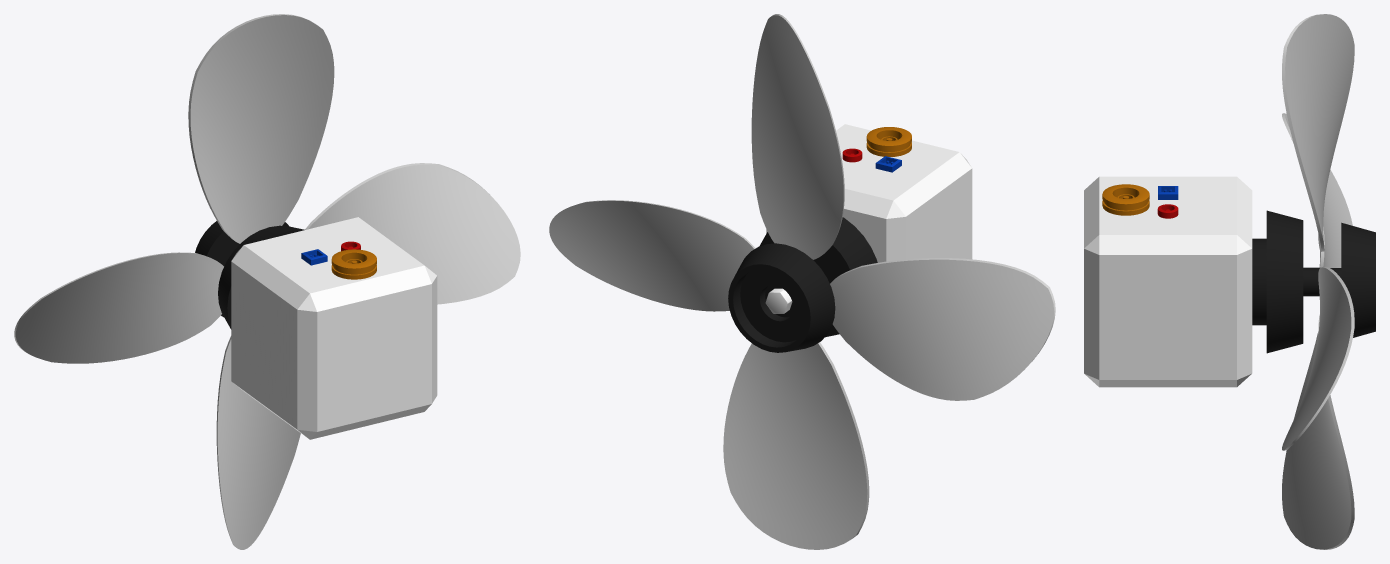
Rendered from Propeller.gltf.
3 views of the same model, side by side, from view 1: azimuth 30°, elevation 25°; view 2: azimuth 150°, elevation 25°; view 3: azimuth 270°, elevation 25° (orthographic). The views are drawn at different scales.
Parts seen in each view (by area): view 1: prop, Base; view 2: prop, Base; view 3: Base, prop.
Boxes of the visible parts, bbox=[...] form: prop: bbox=[14, 14, 520, 549]; Base: bbox=[195, 217, 437, 439]; prop: bbox=[549, 14, 1055, 549]; Base: bbox=[728, 124, 972, 352]; Base: bbox=[1084, 176, 1375, 387]; prop: bbox=[1282, 14, 1354, 549].
Size of the model in its own units: 1.78 by 1.78 by 0.8679.
